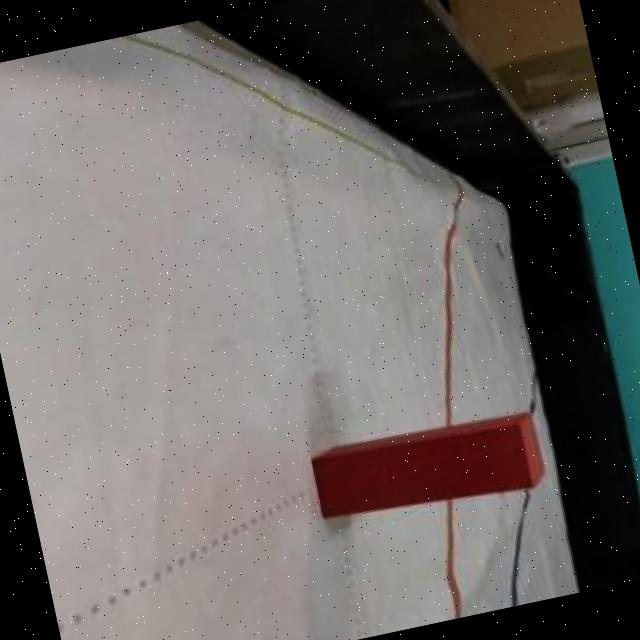redbox: (311, 404, 550, 529)
